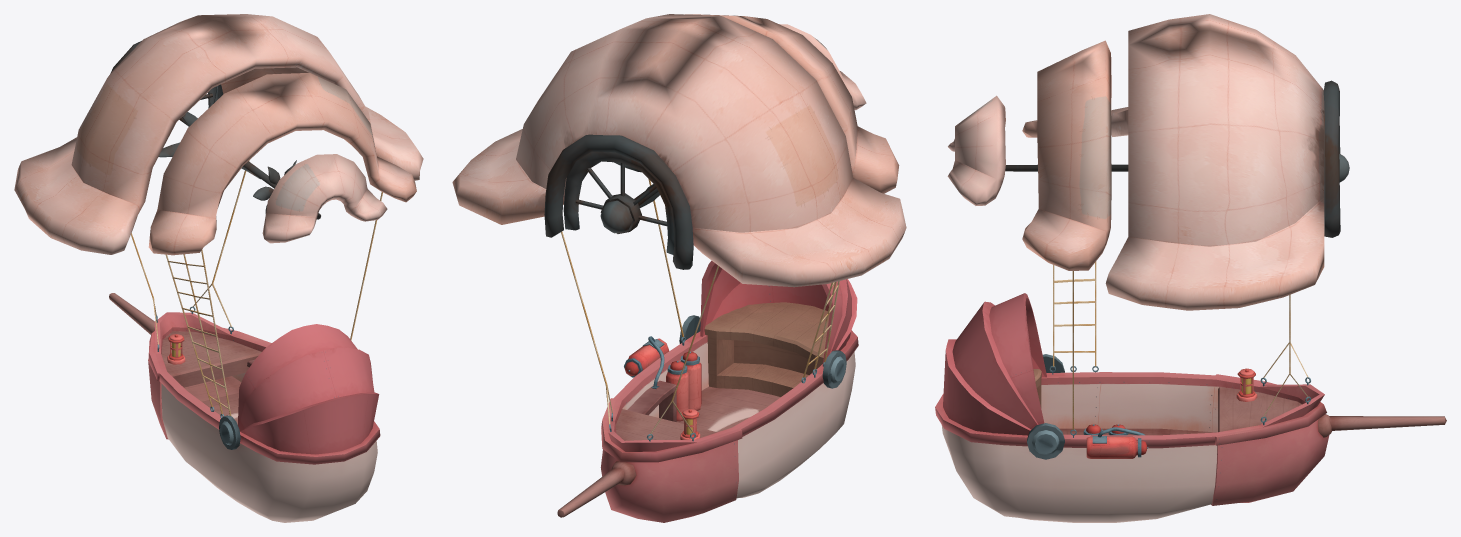
File: ship_decorated.fbx
3 views of the same model, side by side, from view 1: azimuth 30°, elevation 25°; view 2: azimuth 150°, elevation 25°; view 3: azimuth 270°, elevation 25° (orthographic). The views are drawn at different scales.
Parts seen in each view (by area): view 1: balloon, Ship, Cover, Deck, cables, balloon_metal, Stick, WingsBase; view 2: balloon, Ship, balloon_metal, Table, Cover, cables, Deck, Stick, Side table, WingsBase, Tank 2, Tank 1 (+1 smaller); view 3: balloon, Ship, Cover, balloon_metal, Deck, cables, Stick, WingsBase, Tank 1.
Boxes of the visible parts, x1,y1,x2,y2 form: balloon: (14,14,423,255); Ship: (148,312,380,522); Cover: (238,324,379,454); Deck: (161,331,261,387); cables: (131,160,382,418); balloon_metal: (110,41,320,219); Stick: (109,293,154,334); WingsBase: (219,415,240,449); balloon: (452,14,906,287); Ship: (600,330,858,522); balloon_metal: (544,134,693,269); Table: (704,302,829,396); Cover: (700,260,857,366); cables: (561,179,839,441); Deck: (615,409,717,440); Stick: (557,461,636,517); Side table: (627,380,676,421); WingsBase: (679,315,846,388); Tank 2: (666,361,689,421); Tank 1: (624,338,669,377); balloon: (947,14,1324,310); Ship: (935,372,1329,522); Cover: (943,293,1046,435); balloon_metal: (1005,80,1349,237); Deck: (1218,387,1301,432); cables: (1049,261,1311,437); Stick: (1318,414,1446,437); WingsBase: (1027,354,1064,459); Tank 1: (1086,436,1148,458).
Bounding box in the file's own units: 466 × 540 × 520.
